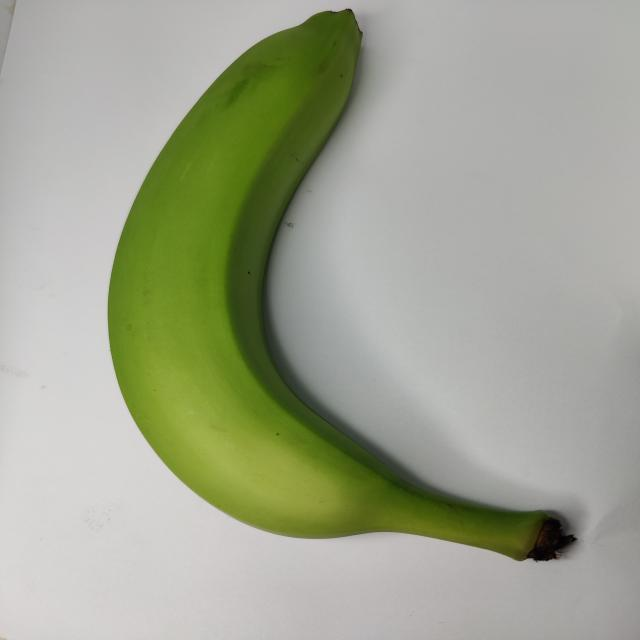raw: (76, 0, 593, 589)
